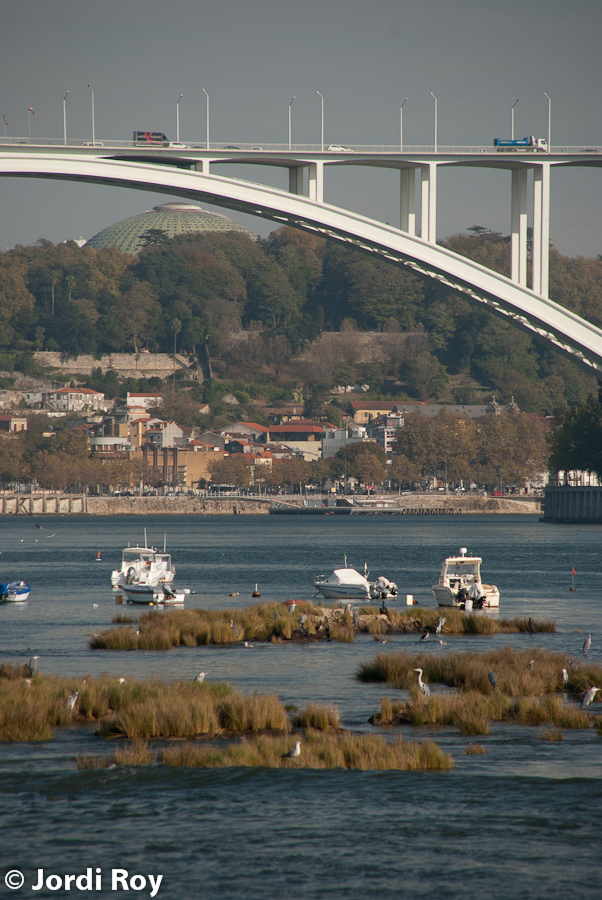arrabida: (0, 140, 601, 380)
